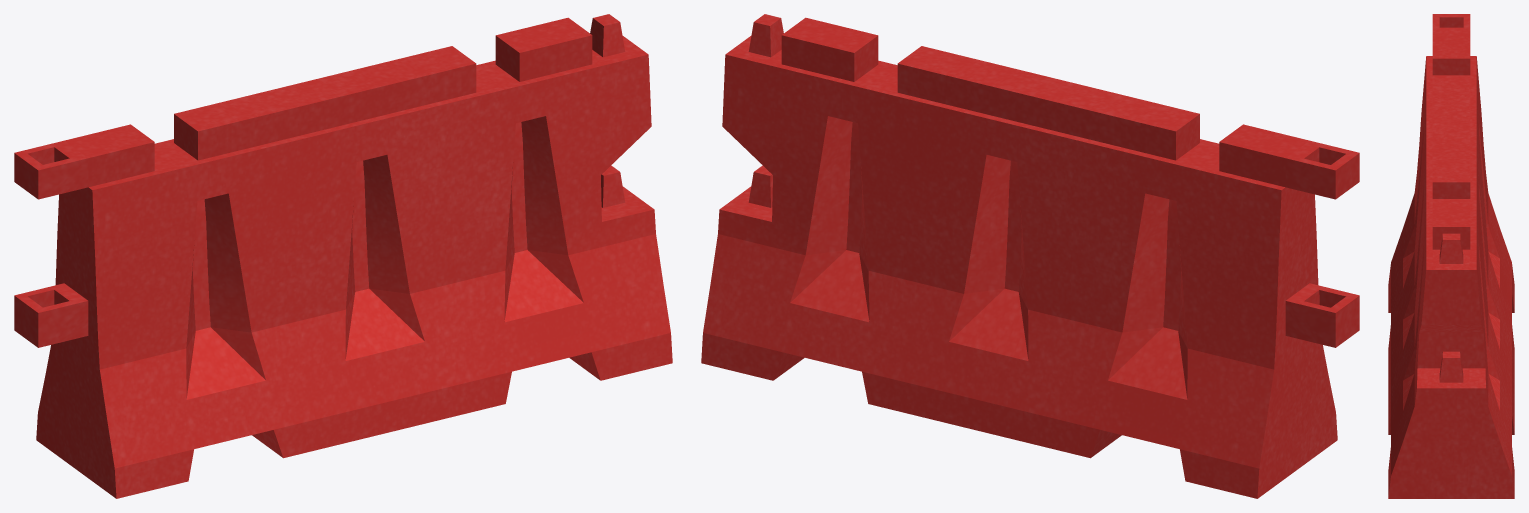
Rendered from RedBarrier.fbx.
The picture shows the model from 3 angles, left to right: view 1: azimuth 30°, elevation 25°; view 2: azimuth 150°, elevation 25°; view 3: azimuth 270°, elevation 25°; orthographic projection. The views are drawn at different scales.
Parts seen in each view (by area): view 1: barrier; view 2: barrier; view 3: barrier.
Part boxes in pixels (bbox=[...]): barrier: bbox=[14, 14, 672, 498]; barrier: bbox=[701, 14, 1359, 498]; barrier: bbox=[1388, 14, 1514, 498].
Size of the model in its own units: 218 by 110 by 50.
1 material, 1 textured.
